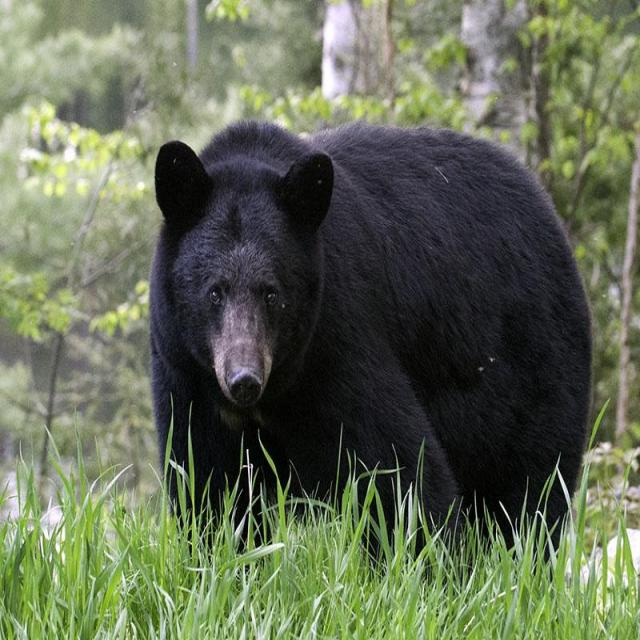Bear: (150, 121, 594, 550)
